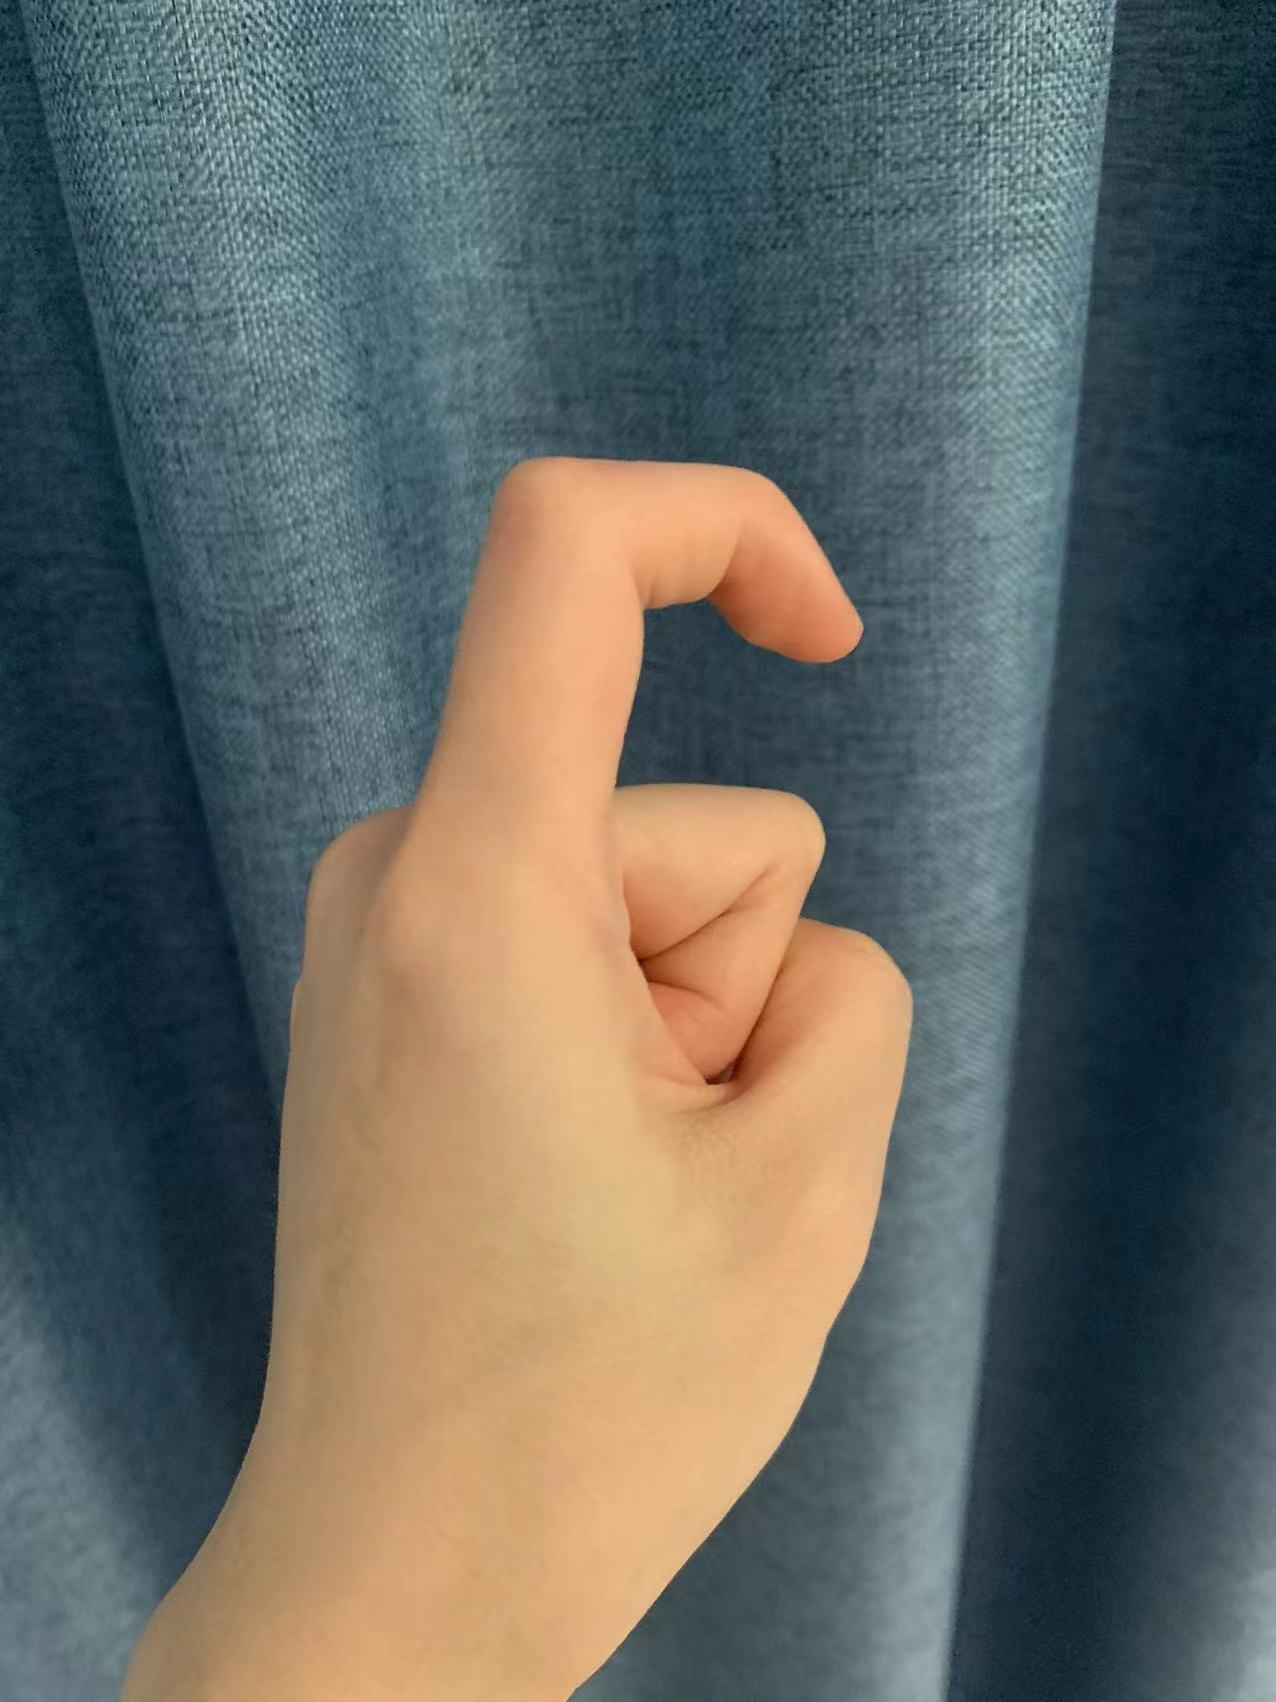anticlockwise: (194, 440, 922, 1571)
